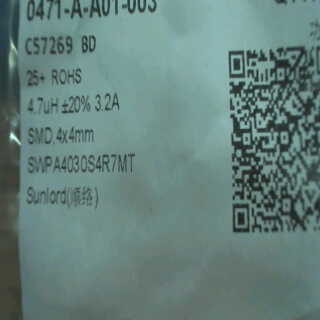4.7uH: (23, 95, 60, 119)
